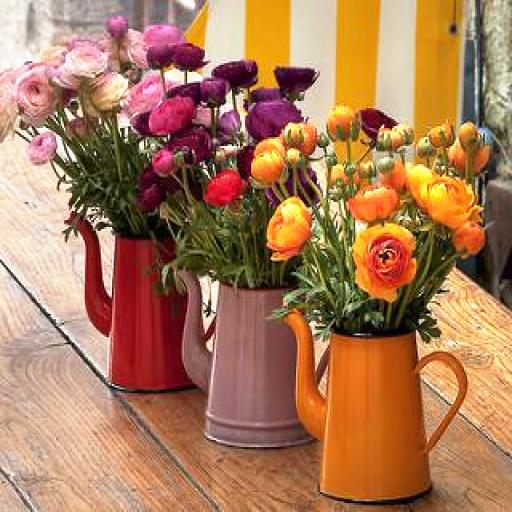rose: (350, 222, 413, 299), (424, 173, 475, 224), (11, 65, 56, 117), (268, 198, 306, 258), (134, 22, 186, 61), (205, 170, 243, 208), (66, 43, 108, 76)
